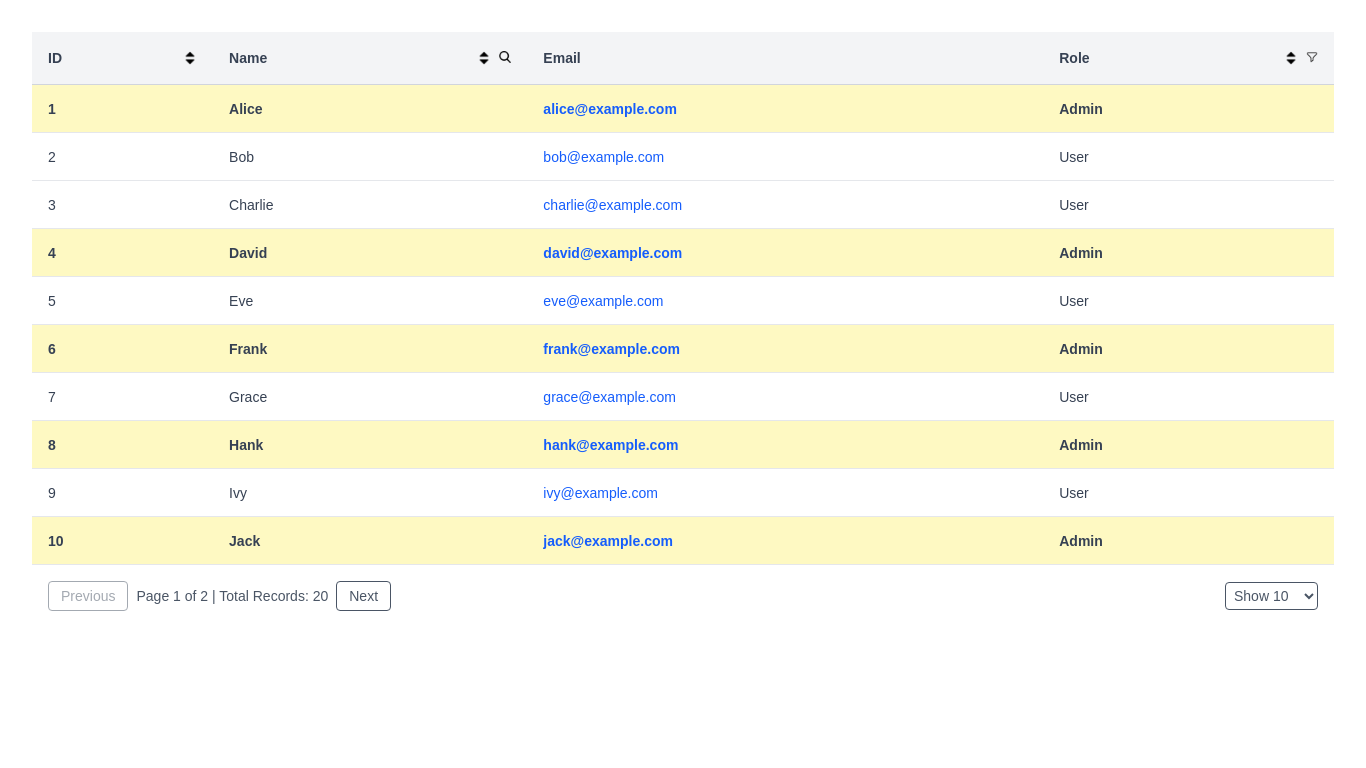
UsersStaticPage DataGrid tests › searches by name
Click the button with test id "search-button-name" at (505, 57), box [499,51,511,63]
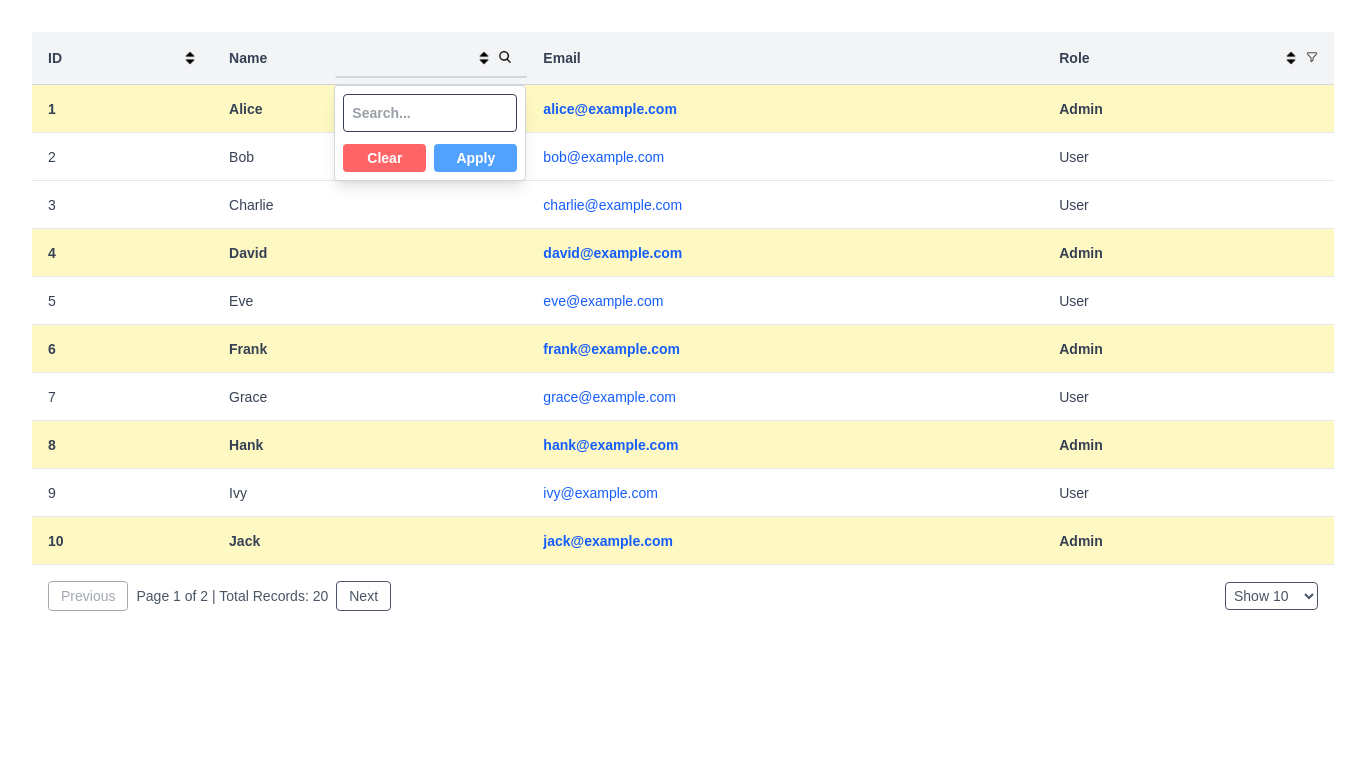
Type "ali" into the field with test id "search-popover-input" at (430, 113), box [343,94,517,132]
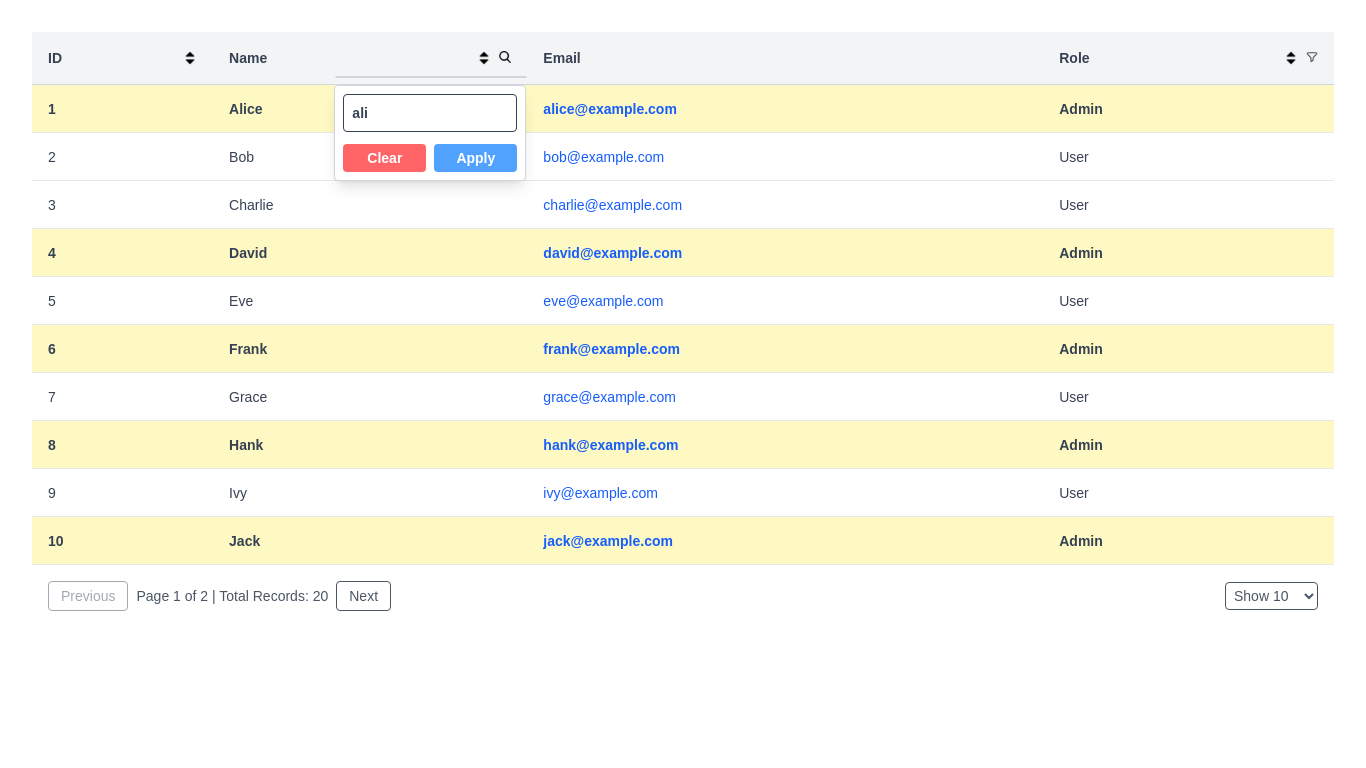
Click the button with test id "search-popover-apply" at (476, 158), box [434,144,517,172]
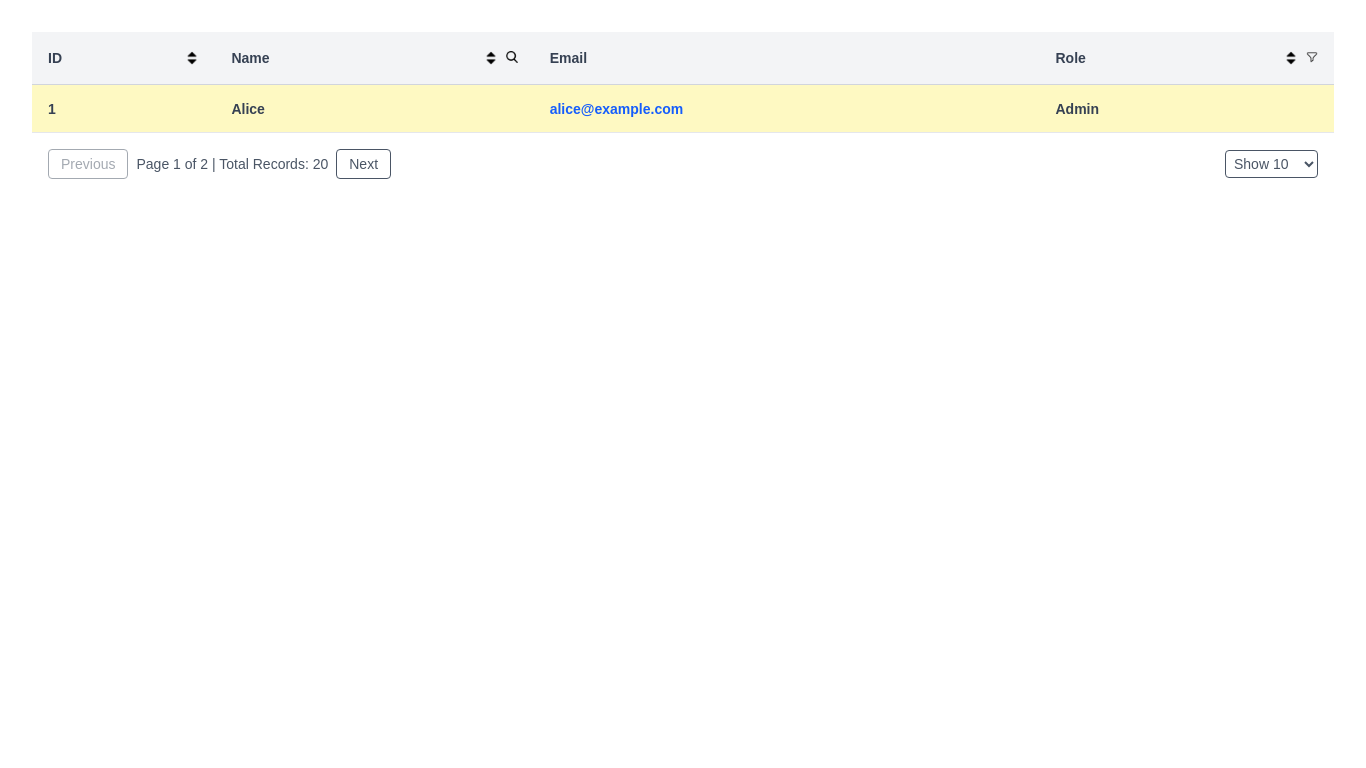
Expected: the cell with test id "cell-0-name" reads "Alice", [231,100,265,116]
Expected: the cell with test id "cell-1-name" is gone
Expected: the cell with test id "cell-2-name" is gone
